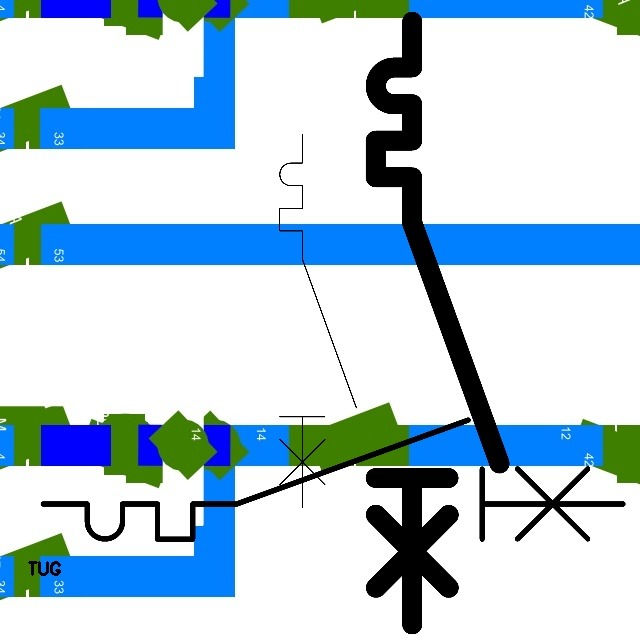interruptor_termomagnetico: (360, 6, 515, 640), (28, 405, 638, 554), (270, 125, 366, 517)
